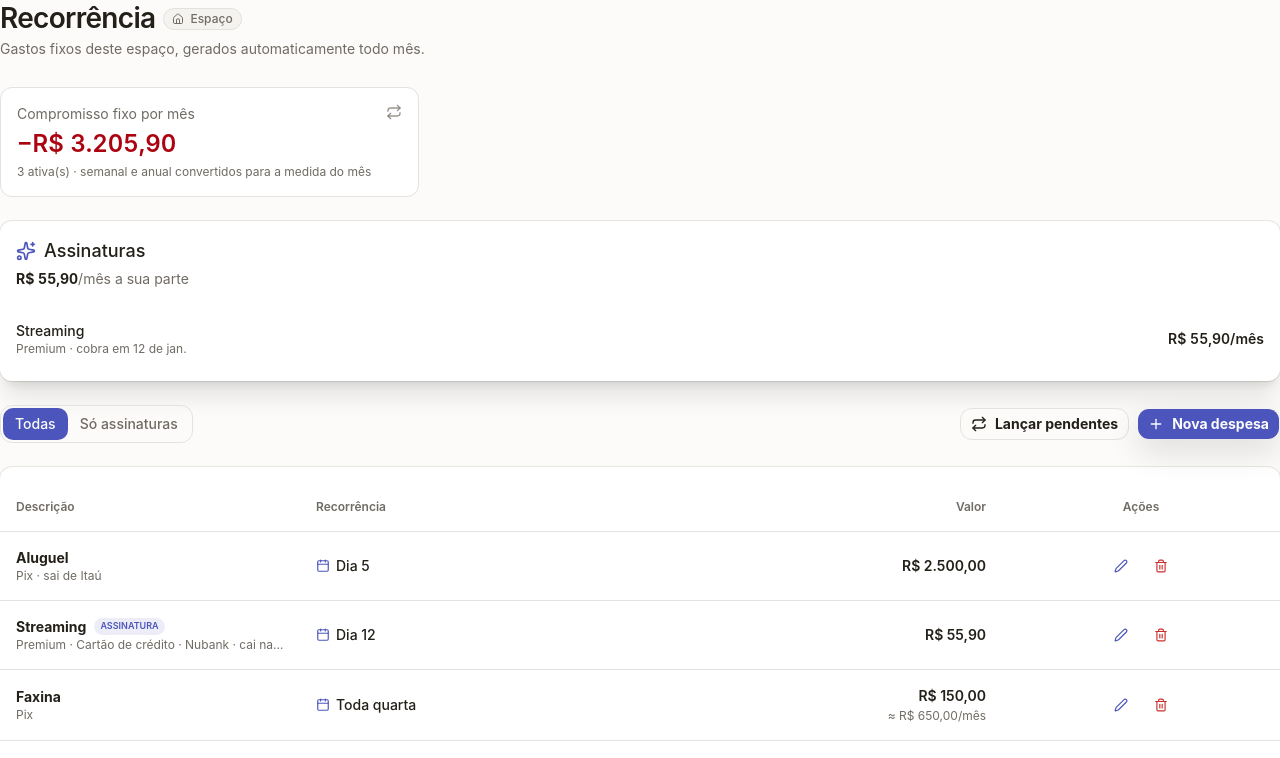
Test: Recorrência — quem paga e a fatura › no cartão, outra pessoa pagando trava o salvar e diz por quê
Click the button named "editar recorrência streaming".
click(1121, 635)  # box 1105,619 -> 1137,651
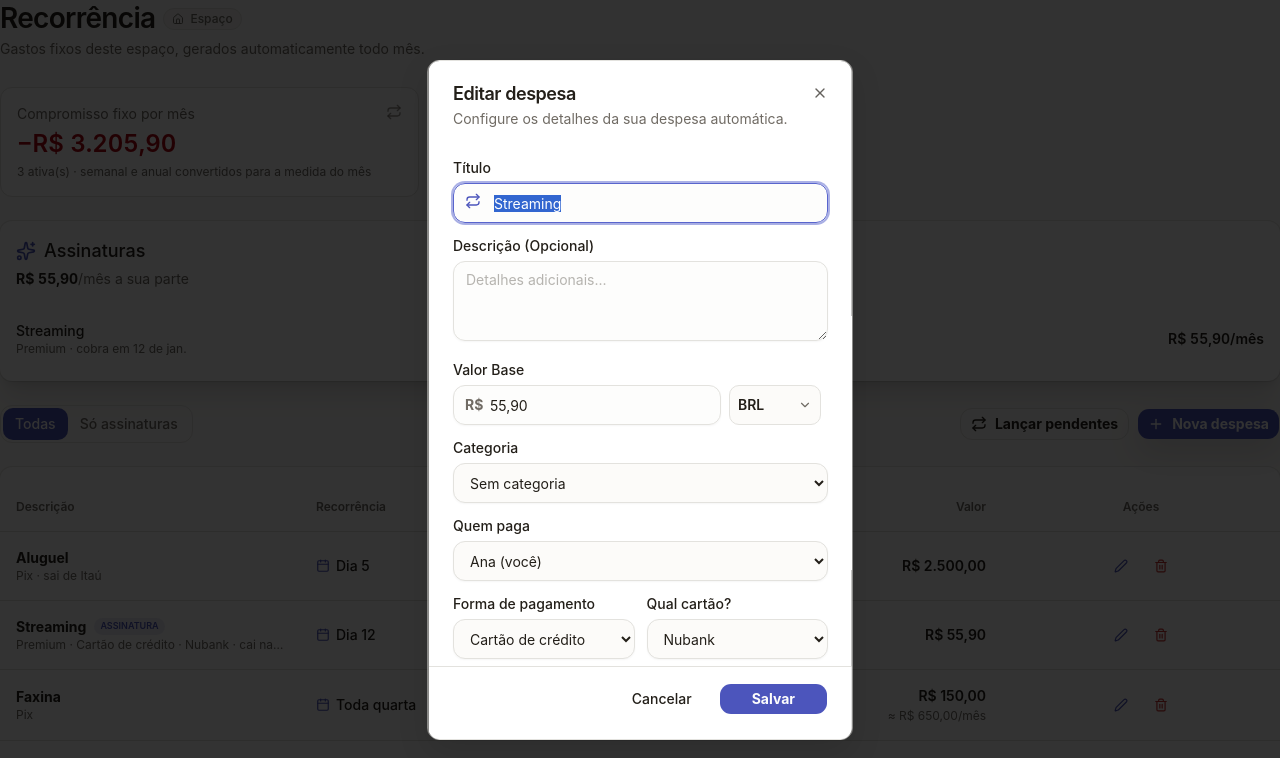
Select "Bruno" in the dropdown labelled "Quem paga" at {"x": 640, "y": 561}, box 452,541 -> 828,581
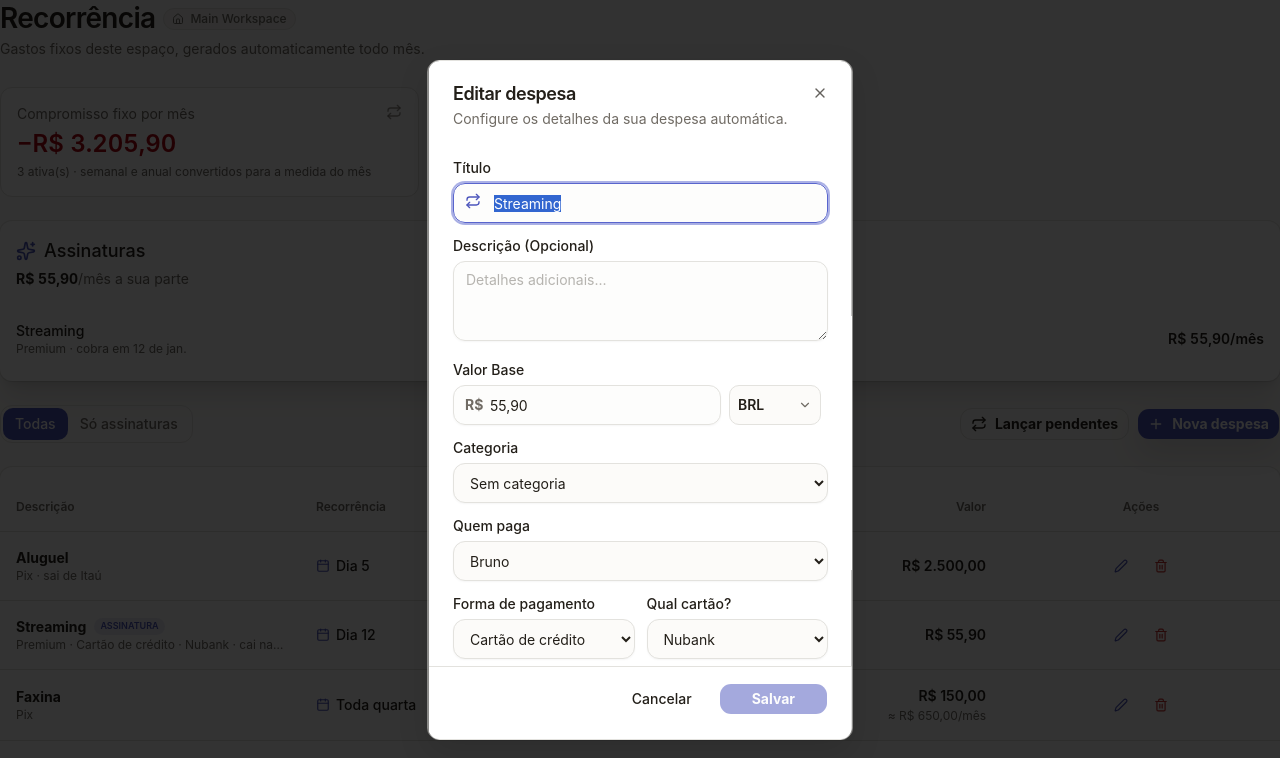
Expected: the text "No cartão, quem paga é o dono dele" is shown, 646,667 -> 826,730
Expected: the button "Salvar" is disabled, 718,683 -> 828,715
